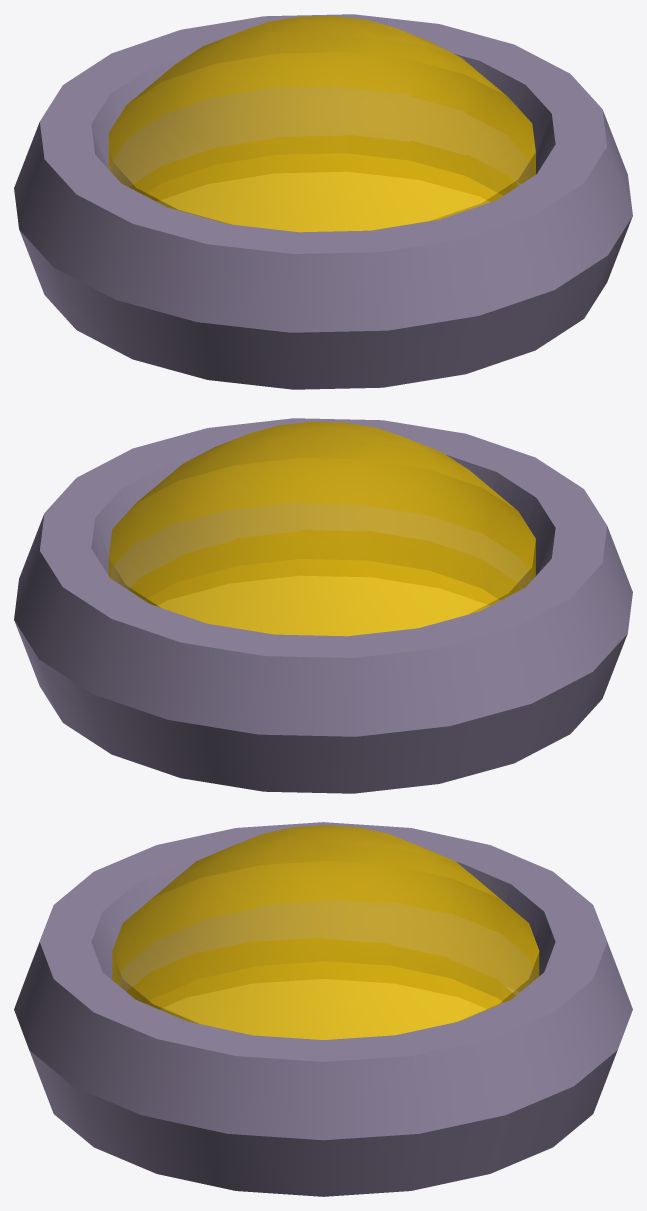
Rendered from bottomLight.fbx.
The picture shows the model from 3 angles, top to bottom: view 1: azimuth 30°, elevation 25°; view 2: azimuth 150°, elevation 25°; view 3: azimuth 270°, elevation 25°; orthographic projection.
Visible parts, largest first — view 1: bottomLight; view 2: bottomLight; view 3: bottomLight.
Part boxes in pixels (x1,y1,x2,y2): bottomLight: [14, 14, 632, 389]; bottomLight: [14, 418, 632, 793]; bottomLight: [14, 822, 632, 1196].
Bounding box in the file's own units: 25.21 × 9.97 × 25.21.
